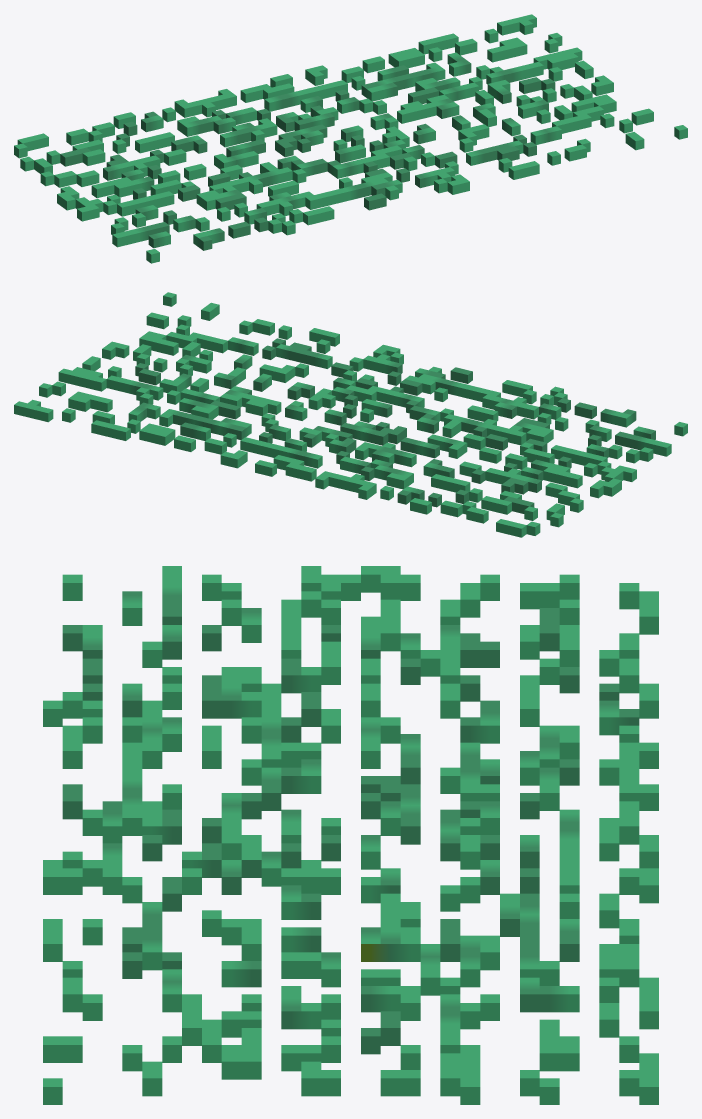
The model's file is roofgrass.fbx.
The picture shows the model from 3 angles, top to bottom: view 1: azimuth 30°, elevation 25°; view 2: azimuth 150°, elevation 25°; view 3: azimuth 270°, elevation 25°; orthographic projection. The views are drawn at different scales.
Visible parts, largest first — view 1: roofgrass; view 2: roofgrass; view 3: roofgrass.
Part boxes in pixels (bbox=[...]): roofgrass: bbox=[14, 14, 687, 263]; roofgrass: bbox=[14, 292, 687, 537]; roofgrass: bbox=[43, 566, 658, 1104].
Bounding box in the file's own units: 62 × 1 × 31.
1 material, 1 textured.
